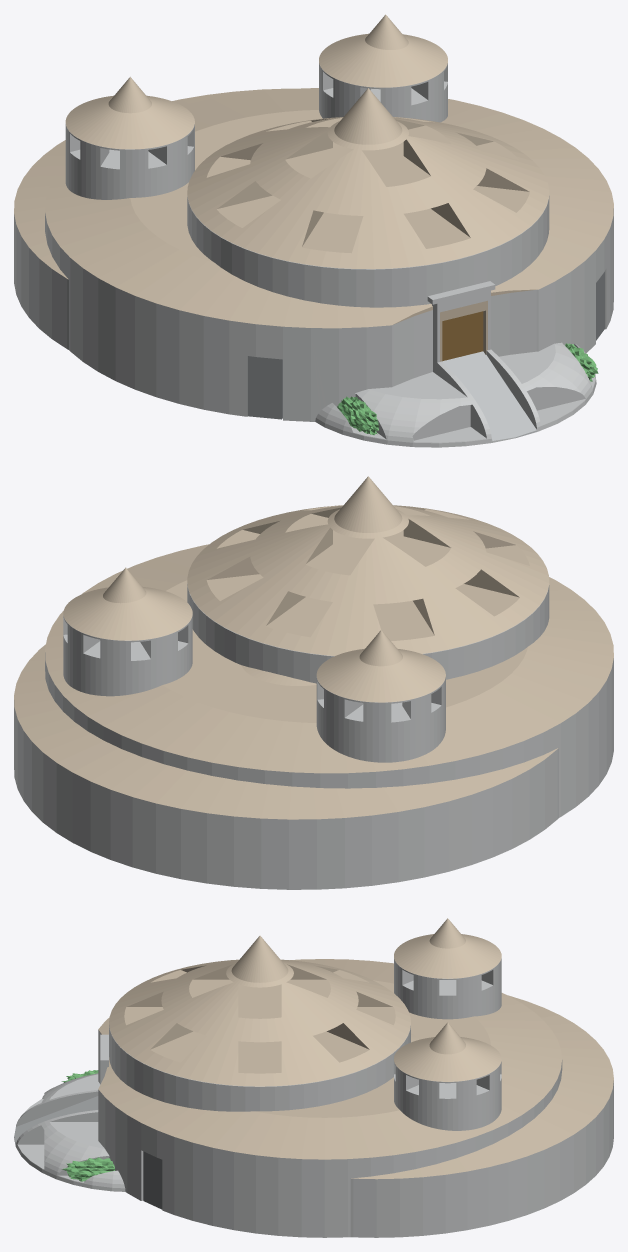
Rendered from Copy of Jurassic Park Visitor Center.glb.
3 renders of one model, top to bottom at view 1: azimuth 30°, elevation 25°; view 2: azimuth 150°, elevation 25°; view 3: azimuth 270°, elevation 25°, orthographic. The views are drawn at different scales.
Visible parts, largest first — view 1: Mesh_Mesh_head_geo.001_lambert2SG.001; view 2: Mesh_Mesh_head_geo.001_lambert2SG.001; view 3: Mesh_Mesh_head_geo.001_lambert2SG.001.
Boxes of the visible parts, bbox=[...] form: Mesh_Mesh_head_geo.001_lambert2SG.001: bbox=[14, 14, 613, 447]; Mesh_Mesh_head_geo.001_lambert2SG.001: bbox=[14, 476, 613, 889]; Mesh_Mesh_head_geo.001_lambert2SG.001: bbox=[14, 918, 613, 1237].
Size of the model in its own units: 0.11 by 0.0522 by 0.139.
